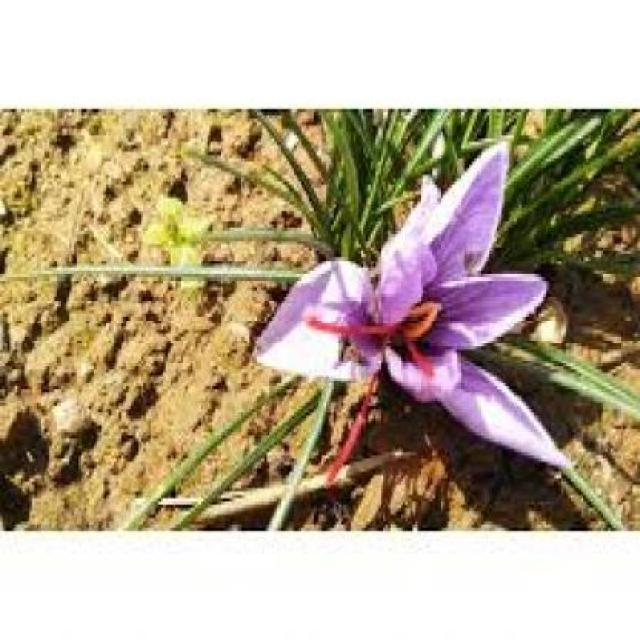Flower: (254, 144, 568, 473)
stigma: (303, 292, 439, 349), (327, 354, 388, 479)
